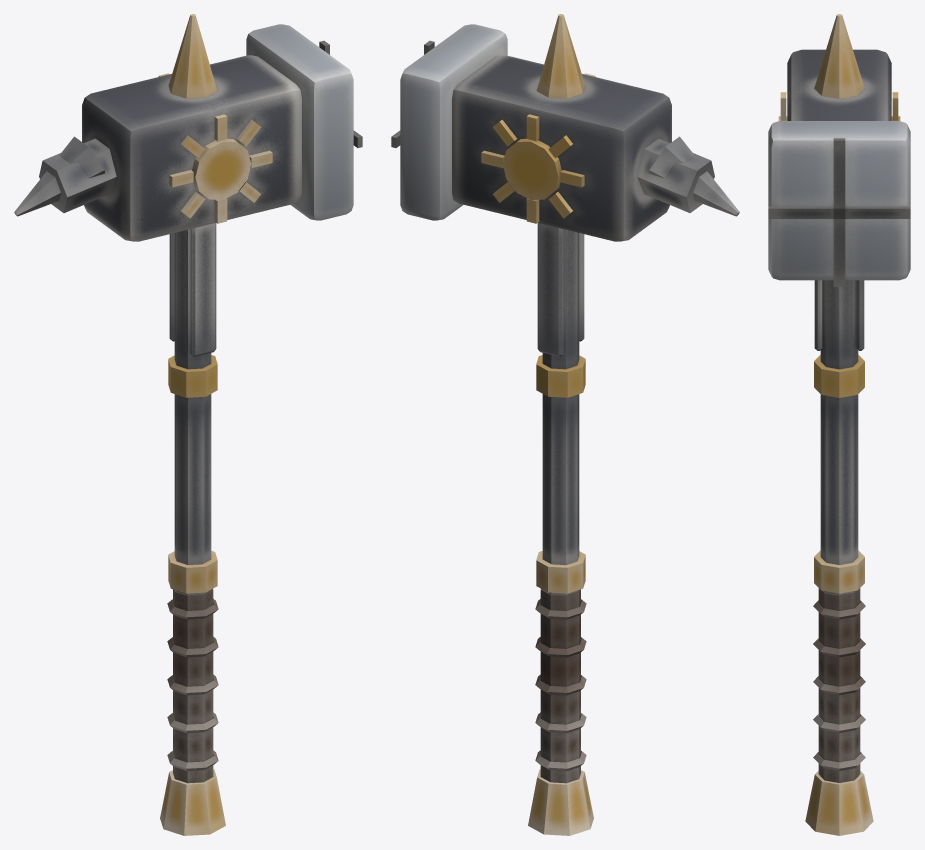
The model's file is weapon_warhammer.glb.
The picture shows the model from 3 angles, left to right: view 1: azimuth 30°, elevation 25°; view 2: azimuth 150°, elevation 25°; view 3: azimuth 270°, elevation 25°; orthographic projection.
Parts seen in each view (by area): view 1: weapon_warhammer; view 2: weapon_warhammer; view 3: weapon_warhammer.
Part boxes in pixels (<box>): weapon_warhammer: <box>14,14,362,835</box>; weapon_warhammer: <box>391,14,739,835</box>; weapon_warhammer: <box>768,14,910,835</box>.
Size of the model in its own units: 0.3794 by 0.9375 by 0.15.
1 material, 1 textured.
